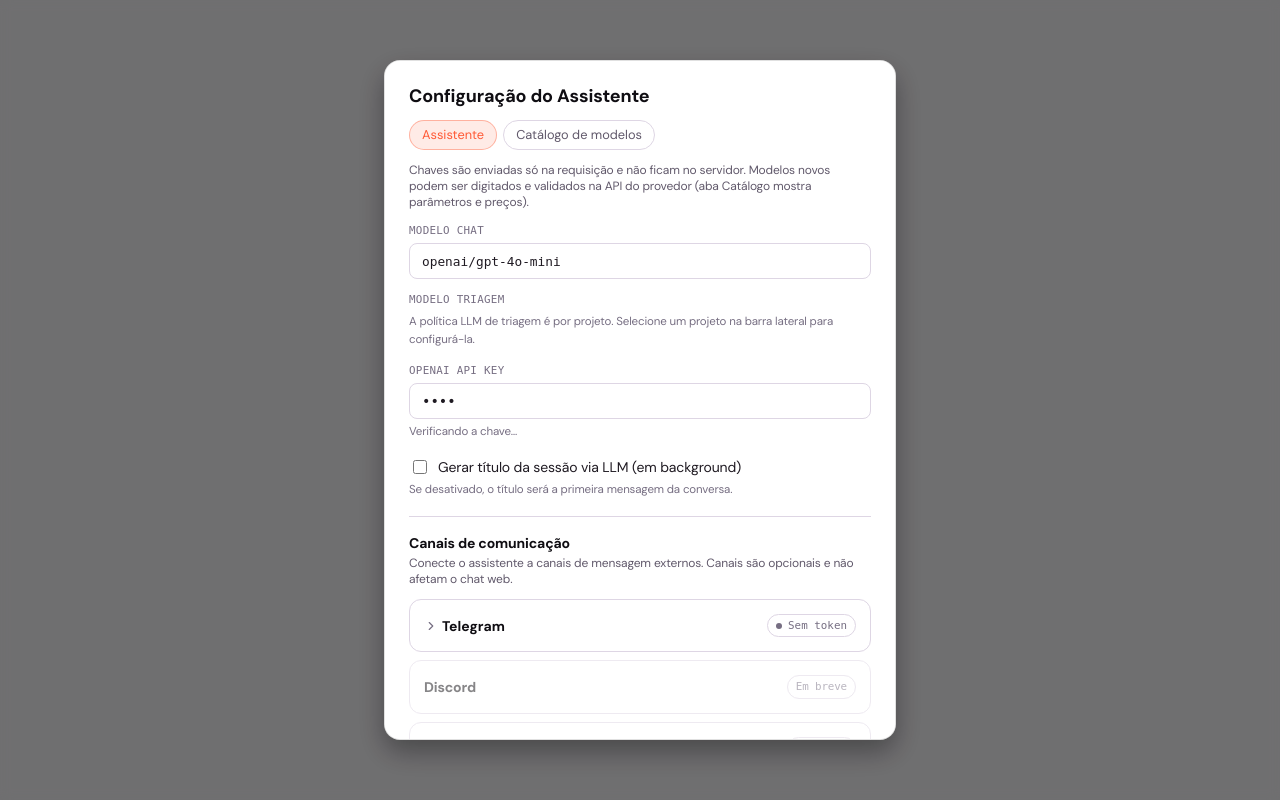
Test: ModelCombobox (dropdown próprio, sem datalist) › abre a lista no foco com as opções do catálogo
Focus the dropdown labelled "Modelo chat" at (640, 261), box [409, 243, 871, 279]
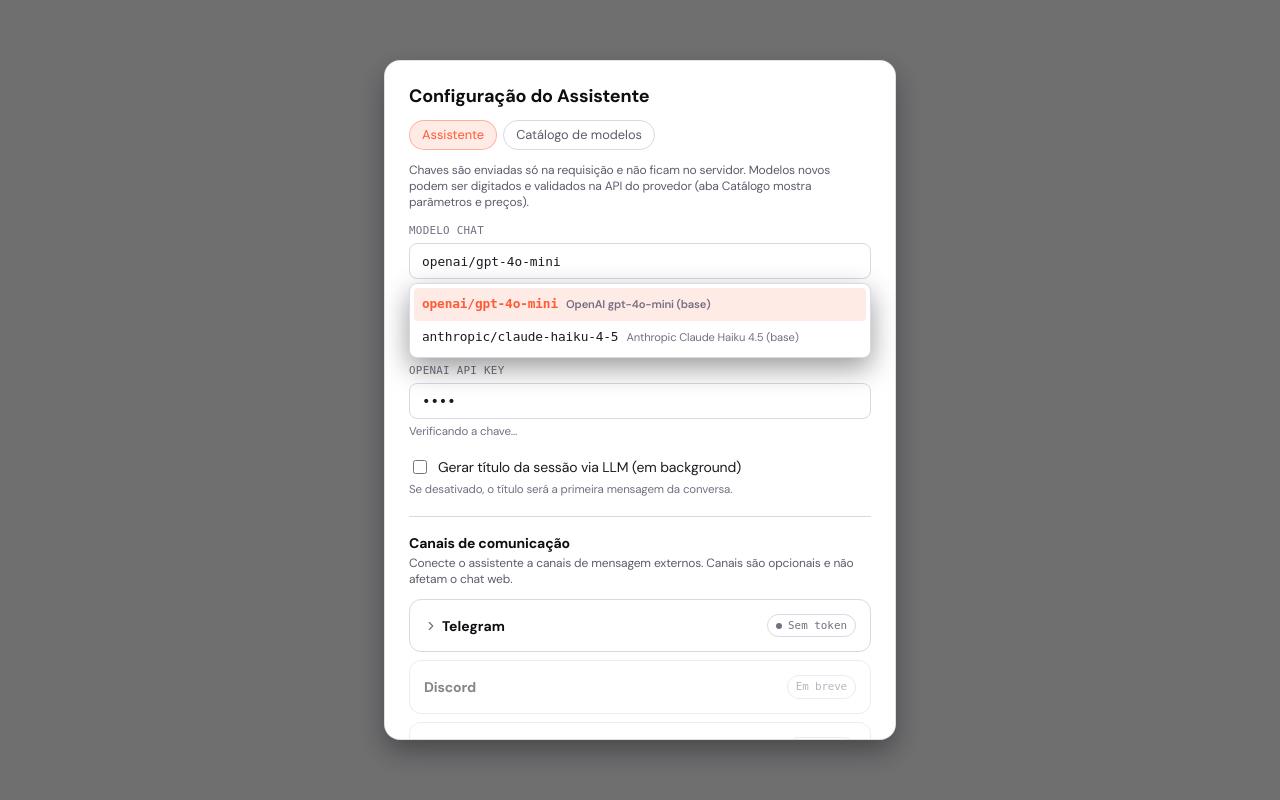
Expected: the list is shown, [409, 283, 871, 358]
Expected: the text "openai/gpt-4o-mini" is shown, [422, 296, 558, 311]
Expected: the text "anthropic/claude-haiku-4-5" is shown, [422, 329, 618, 344]
